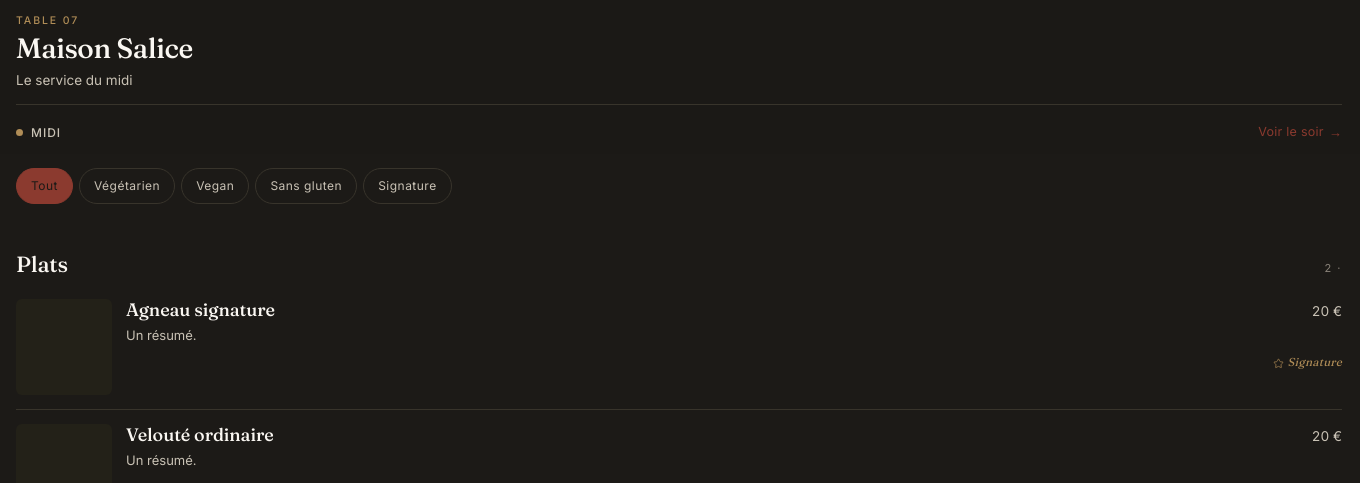
le filtre « Signature » ne garde que les plats signature
Expected: the text "Agneau signature" is shown, [126,299,275,321]
Expected: the text "Velouté ordinaire" is shown, [126,424,274,446]
Click the tab "Signature". click: (407, 186)
box: [363,168,452,204]
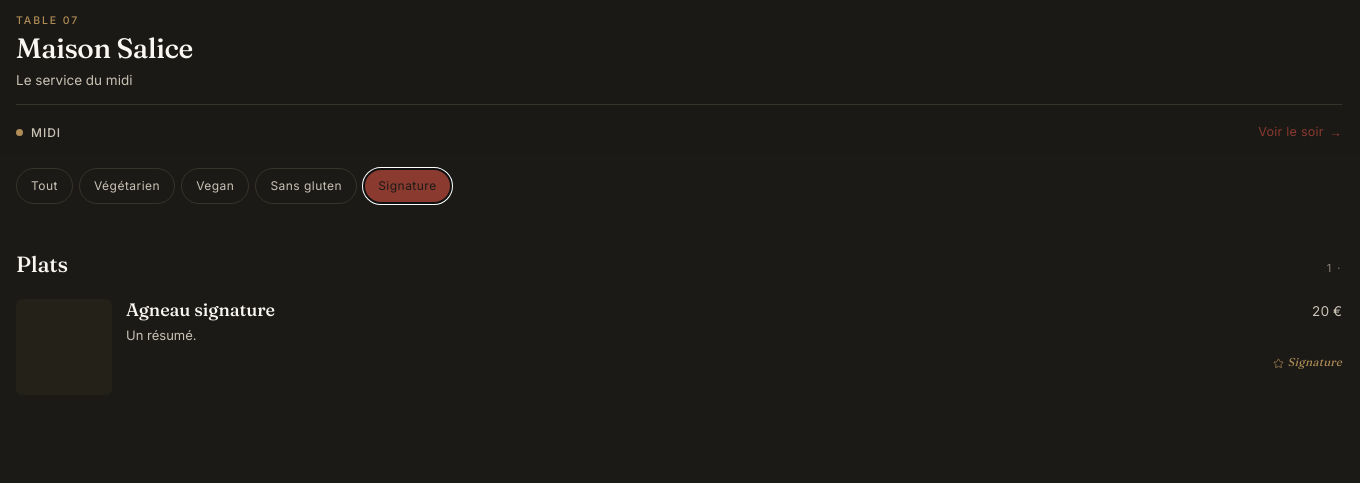
Expected: the text "Agneau signature" is shown, [126,299,275,321]
Expected: the button "Velouté ordinaire" is gone
